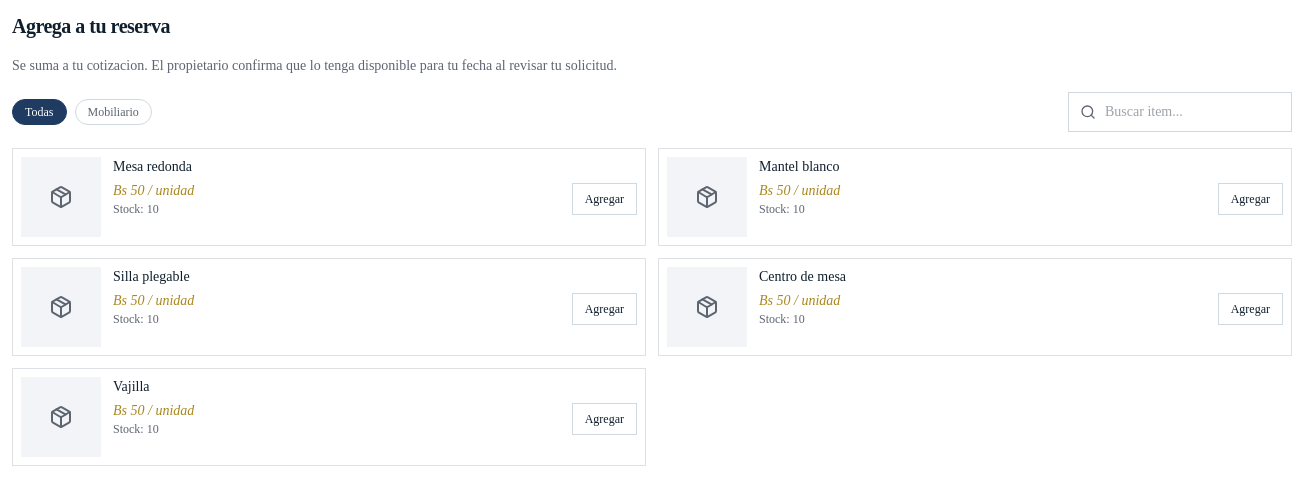
VenueRentalItemCatalog › filtra por nombre con el buscador
The image size is (1304, 483).
Expected: the text "Mesa redonda" is shown, top-left (113, 159), bottom-right (192, 174)
In the field with placeholder "Buscar item...": (1180, 112) top-left (1068, 92), bottom-right (1292, 132), type "mesa"
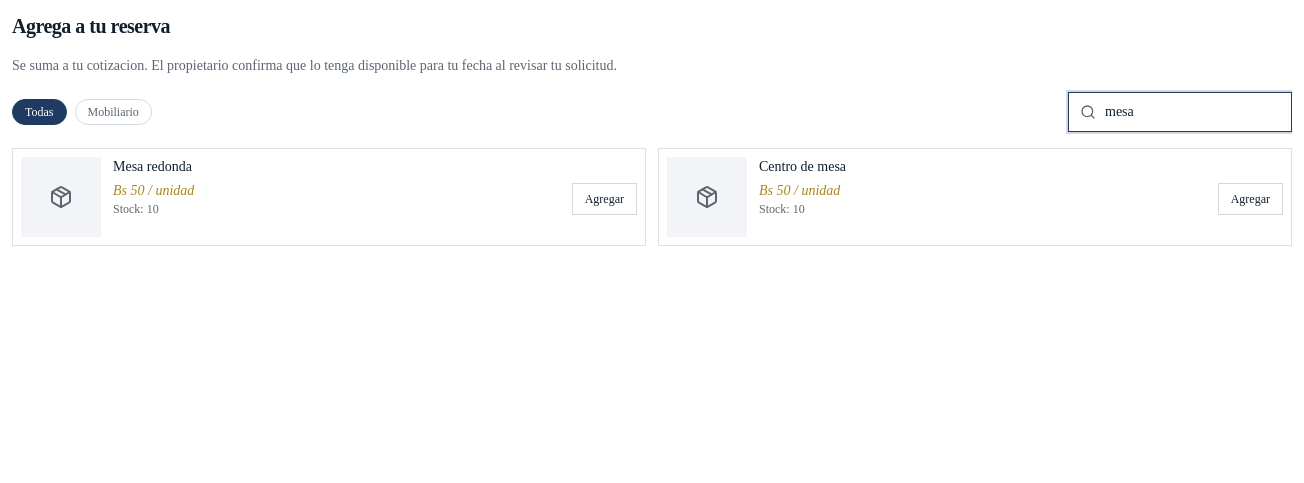
Expected: the text "Mesa redonda" is shown, top-left (113, 159), bottom-right (192, 174)
Expected: the text "Mantel blanco" is gone
